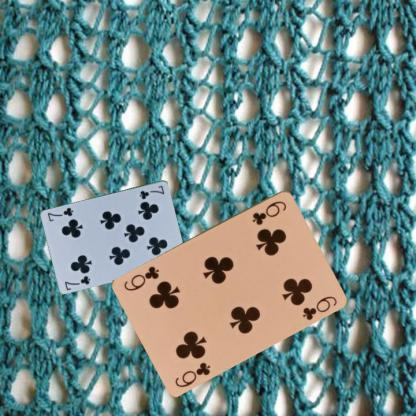6c: (172, 359, 212, 388), (249, 198, 288, 226)
7c: (62, 273, 92, 291), (137, 182, 166, 200)
